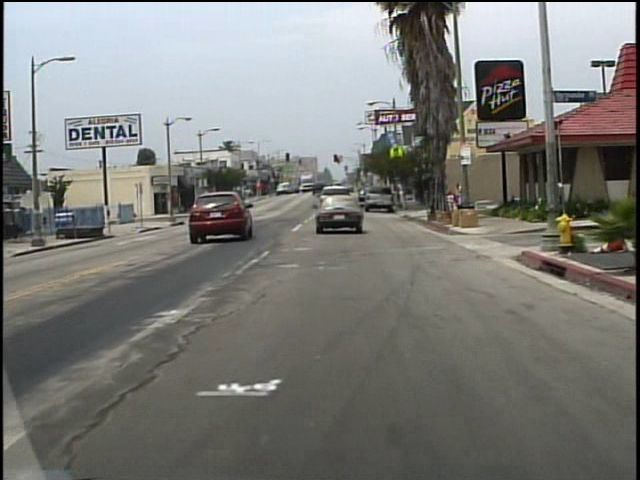person: (460, 182, 469, 210), (454, 185, 462, 208)
